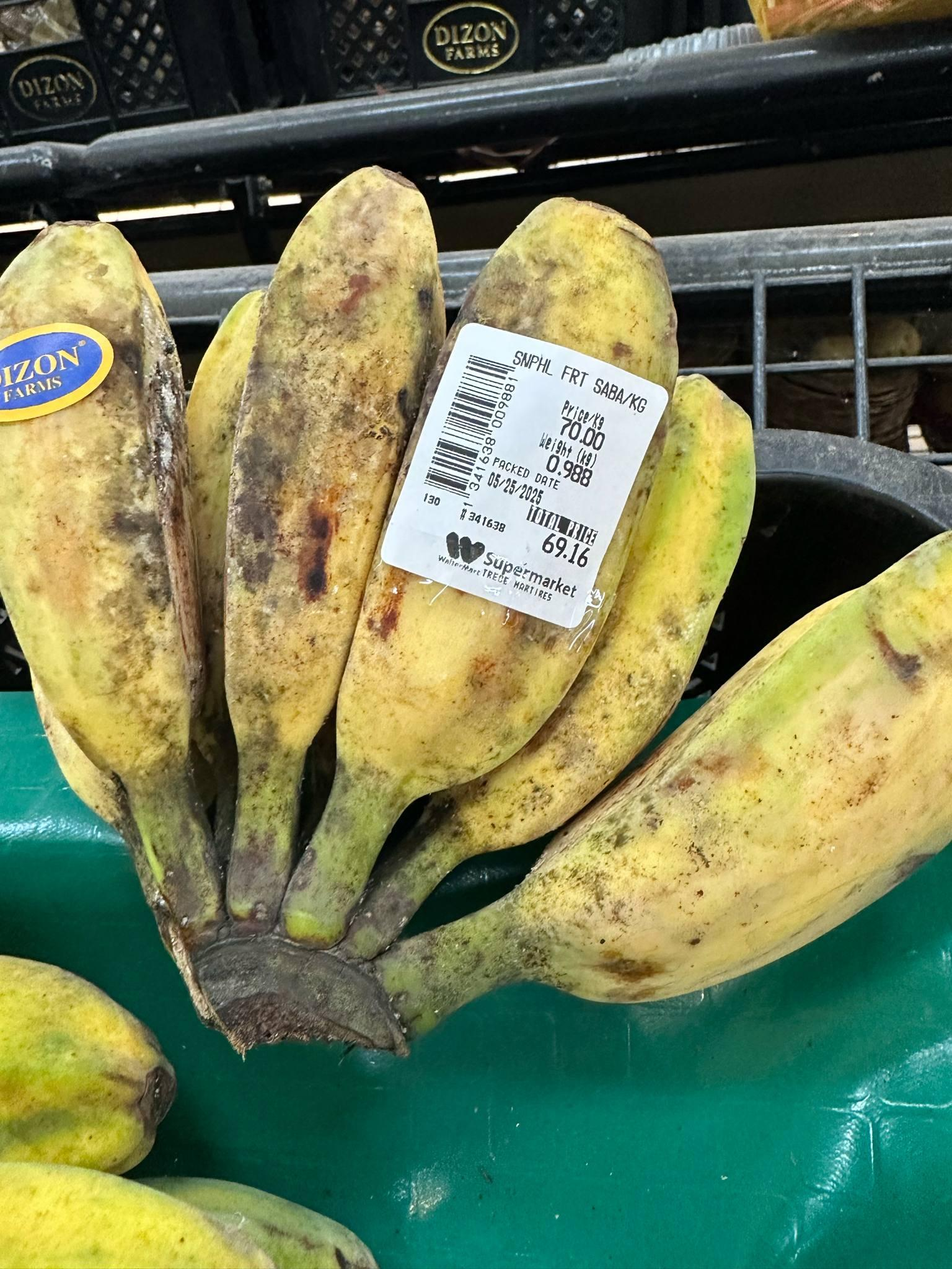underripe: (0, 167, 951, 998)
